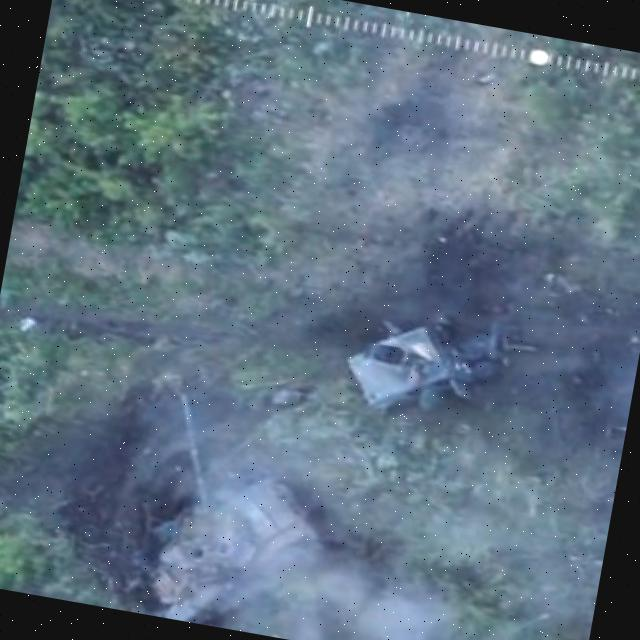Destroyed: (339, 305, 517, 428)
MBT: (137, 379, 350, 640)
